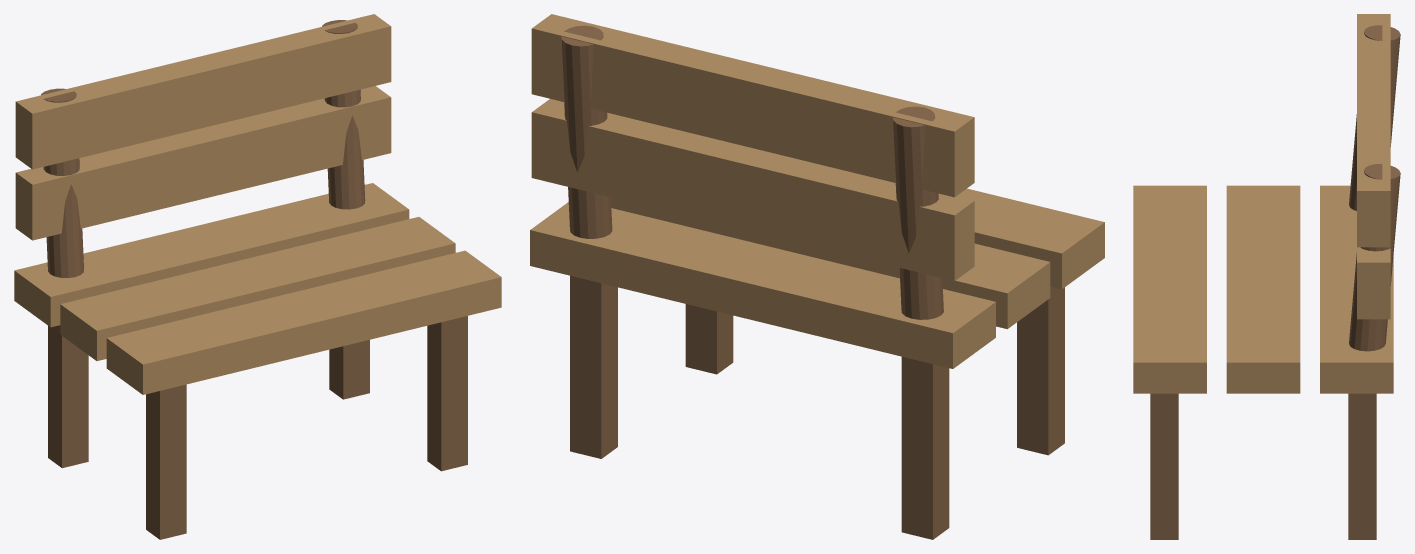
File: Bench.fbx
3 renders of one model, left to right at view 1: azimuth 30°, elevation 25°; view 2: azimuth 150°, elevation 25°; view 3: azimuth 270°, elevation 25°, orthographic. The views are drawn at different scales.
Visible parts, largest first — view 1: Back slat.001, Seat plank, Back slat, Seat plank.001, Seat plank.002, Leg, Leg.001, Leg.002, Back support, Back support.001, Leg.003; view 2: Back slat, Back slat.001, Seat plank.002, Leg.002, Seat plank.001, Leg.003, Seat plank, Leg, Back support.001, Back support, Leg.001; view 3: Seat plank.001, Seat plank, Seat plank.002, Back slat.001, Leg.001, Leg.003, Back support.001, Back slat, Back support.
Part boxes in pixels (<box>): Back slat.001: <box>15,14,391,169</box>; Seat plank: <box>106,250,501,394</box>; Back slat: <box>15,86,391,240</box>; Seat plank.001: <box>60,217,455,360</box>; Seat plank.002: <box>14,183,409,327</box>; Leg: <box>146,384,186,539</box>; Leg.001: <box>427,316,467,471</box>; Leg.002: <box>48,325,88,468</box>; Back support: <box>41,88,83,277</box>; Back support.001: <box>322,20,365,209</box>; Leg.003: <box>329,340,369,399</box>; Back slat: <box>531,99,974,280</box>; Back slat.001: <box>531,14,974,197</box>; Seat plank.002: <box>530,202,995,368</box>; Leg.002: <box>901,356,949,539</box>; Seat plank.001: <box>611,197,1050,329</box>; Leg.003: <box>570,275,617,458</box>; Seat plank: <box>956,188,1104,289</box>; Leg: <box>1017,286,1064,455</box>; Back support.001: <box>561,25,612,238</box>; Back support: <box>893,106,943,319</box>; Leg.001: <box>685,304,733,374</box>; Seat plank.001: <box>1226,185,1300,393</box>; Seat plank: <box>1133,185,1206,393</box>; Seat plank.002: <box>1320,185,1393,393</box>; Back slat.001: <box>1357,14,1390,247</box>; Leg.001: <box>1150,393,1178,539</box>; Leg.003: <box>1348,393,1376,539</box>; Back support.001: <box>1349,164,1400,351</box>; Back slat: <box>1357,247,1390,319</box>; Back support: <box>1349,25,1400,210</box>.
Bounding box in the file's own units: 148 × 142 × 94.48.
